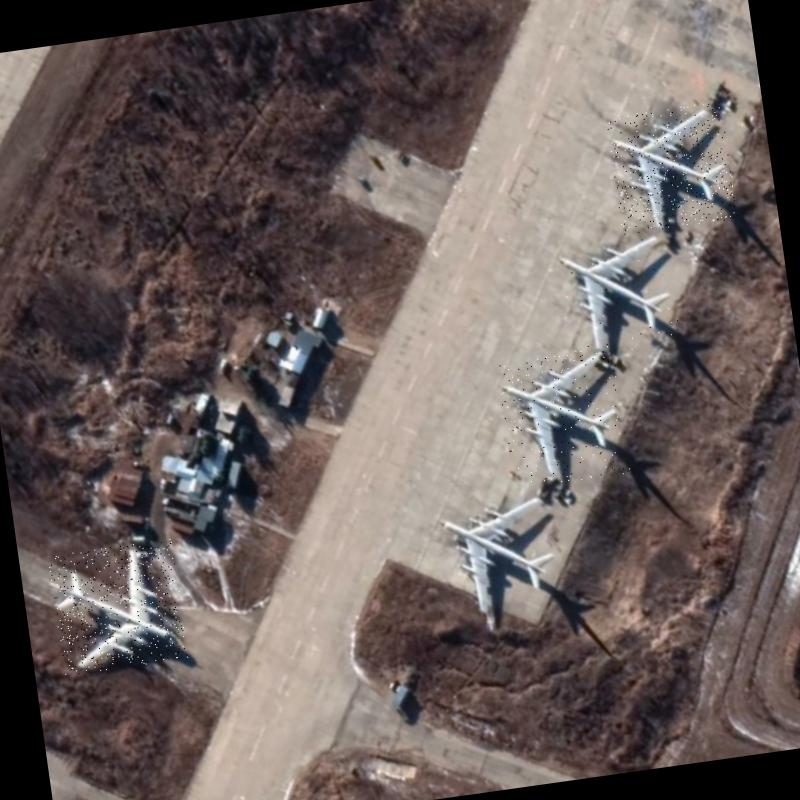A17: (47, 538, 189, 676), (496, 345, 630, 489), (606, 100, 738, 235), (439, 487, 566, 625), (555, 228, 681, 360)
